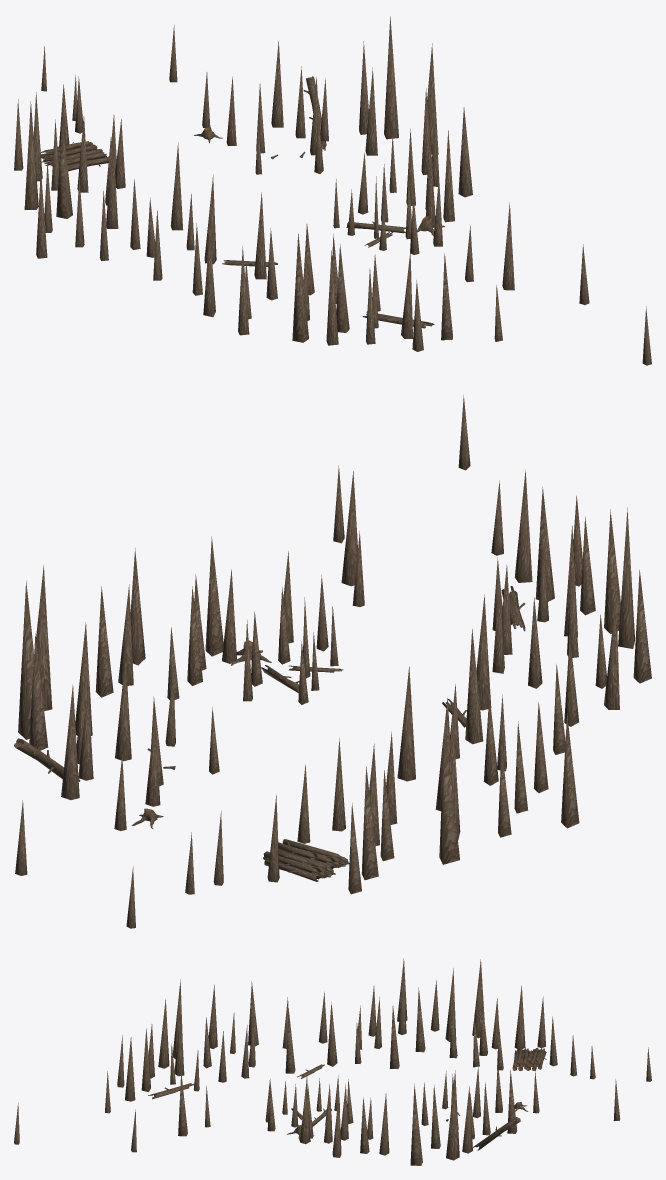
File: wujian34_1.fbx
3 renders of one model, top to bottom at view 1: azimuth 30°, elevation 25°; view 2: azimuth 150°, elevation 25°; view 3: azimuth 270°, elevation 25°, orthographic. The views are drawn at different scales.
Visible parts, largest first — view 1: wujian34_1; view 2: wujian34_1; view 3: wujian34_1.
Boxes of the visible parts, x1,y1,x2,y2 form: wujian34_1: (14, 16, 651, 365); wujian34_1: (14, 395, 651, 928); wujian34_1: (14, 958, 651, 1165).
Size of the model in its own units: 4145 by 1317 by 7574.
